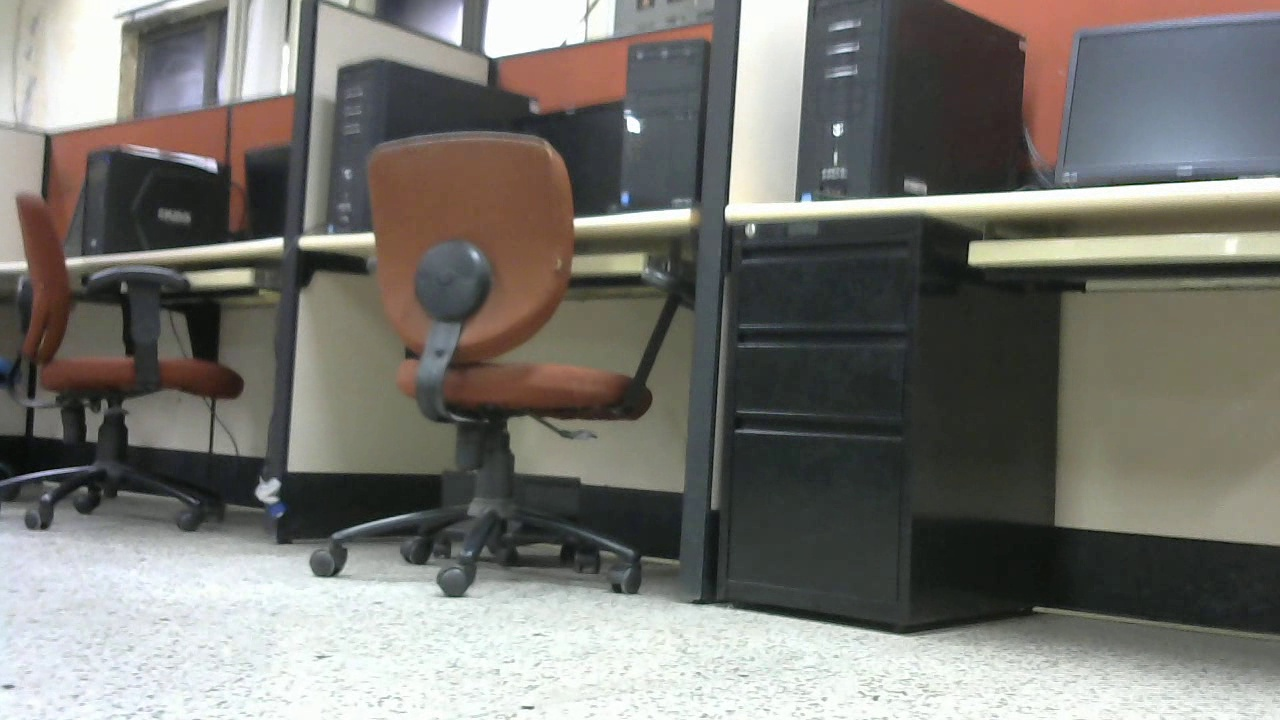chair: (296, 131, 660, 596), (3, 191, 253, 549)
